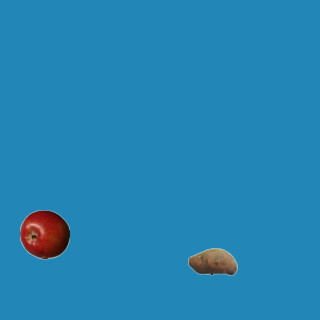Apple Braeburn: (19, 209, 69, 259)
Potato Sweet: (187, 236, 237, 286)
